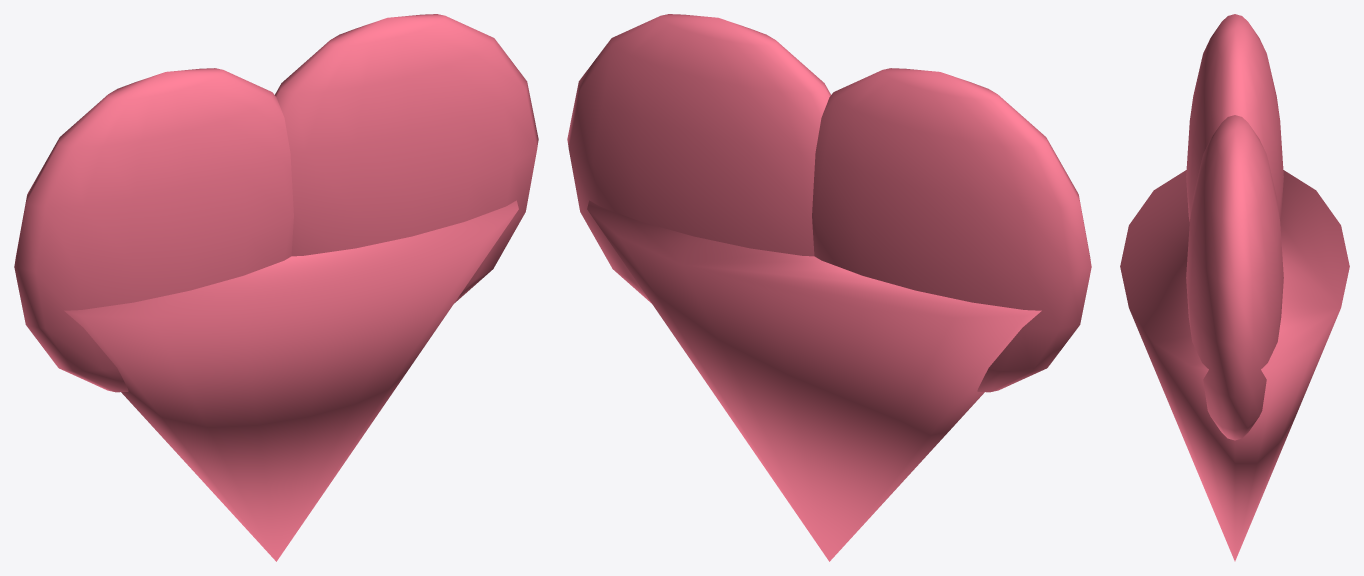
The model's file is Heart.fbx.
The picture shows the model from 3 angles, left to right: view 1: azimuth 30°, elevation 25°; view 2: azimuth 150°, elevation 25°; view 3: azimuth 270°, elevation 25°; orthographic projection. The views are drawn at different scales.
Parts seen in each view (by area): view 1: Heart; view 2: Heart; view 3: Heart.
Boxes of the visible parts, box(x1,y1,x2,y2) form: Heart: box(14, 14, 538, 561); Heart: box(567, 14, 1091, 561); Heart: box(1120, 14, 1349, 561).
Bounding box in the file's own units: 0.52 × 0.49 × 0.2115.
